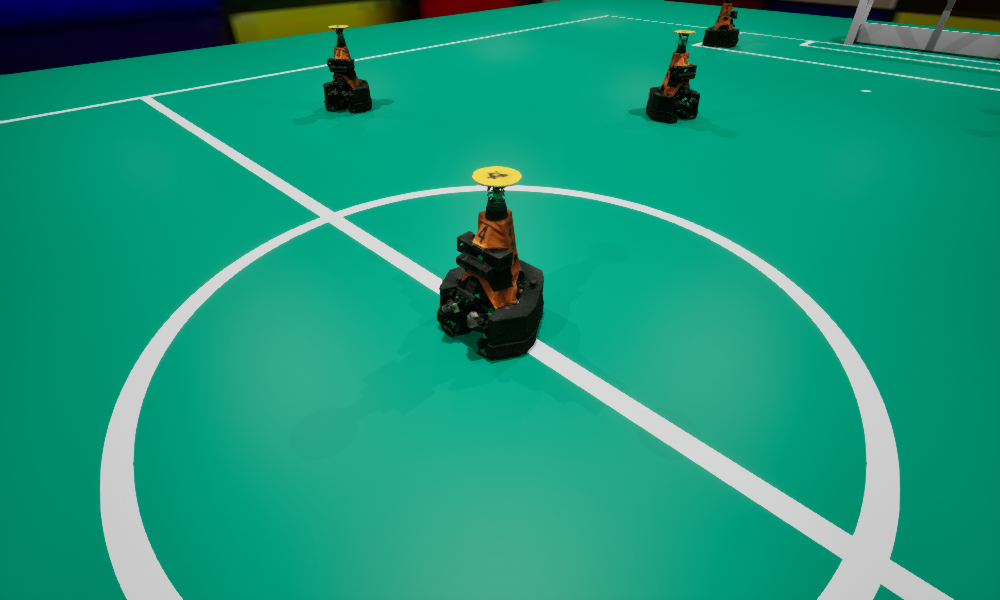o: (437, 166, 543, 359), (646, 30, 699, 123), (323, 25, 371, 112), (702, 0, 739, 47)
